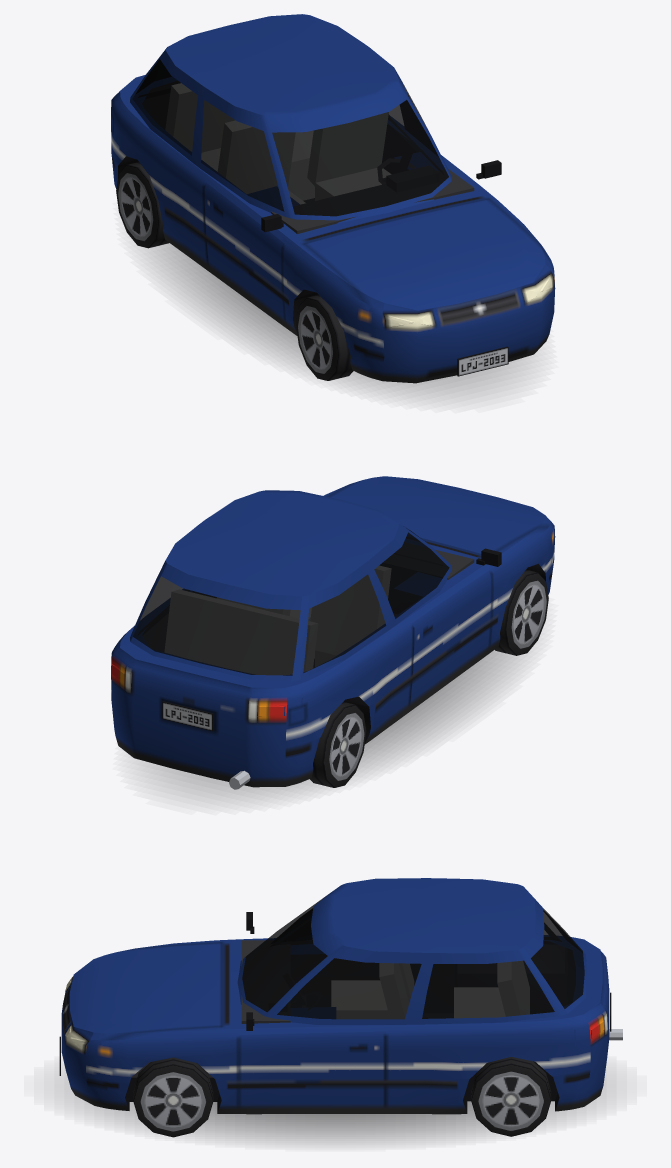
File: lampejo.glb
3 renders of one model, top to bottom at view 1: azimuth 30°, elevation 25°; view 2: azimuth 150°, elevation 25°; view 3: azimuth 270°, elevation 25°, orthographic. The views are drawn at different scales.
Visible parts, largest first — view 1: Carroceria, Interior, Capo_malha, Porta_D_malha, Sombra, Roda_DD, Roda_TD, Porta_E_malha; view 2: Carroceria, Tampa_malha, Interior, Porta_D_malha, Capo_malha, Sombra, Roda_TD, Roda_DD, Lanterna; view 3: Carroceria, Interior, Porta_E_malha, Capo_malha, Sombra, Roda_DE, Roda_TE, Tampa_malha, Porta_D_malha.
Boxes of the visible parts, x1,y1,x2,y2 form: Carroceria: (111, 14, 555, 383); Interior: (138, 81, 474, 233); Capo_malha: (304, 198, 550, 311); Porta_D_malha: (203, 102, 290, 319); Sombra: (148, 243, 528, 398); Roda_DD: (296, 295, 353, 380); Roda_TD: (116, 162, 168, 248); Porta_E_malha: (394, 68, 501, 179); Carroceria: (111, 479, 555, 789); Tampa_malha: (130, 563, 301, 765); Interior: (138, 542, 474, 674); Porta_D_malha: (389, 524, 501, 703); Capo_malha: (328, 476, 550, 554); Sombra: (142, 650, 522, 800); Roda_TD: (310, 702, 366, 787); Roda_DD: (495, 569, 548, 655); Lanterna: (112, 664, 302, 719); Carroceria: (59, 878, 622, 1114); Interior: (131, 917, 575, 1077); Porta_E_malha: (238, 946, 385, 1106); Capo_malha: (75, 942, 222, 1040); Sombra: (64, 1073, 606, 1143); Roda_DE: (133, 1057, 213, 1137); Roda_TE: (471, 1056, 551, 1136); Tampa_malha: (523, 899, 611, 1051); Porta_D_malha: (246, 909, 312, 943).
Bounding box in the file's own units: 2.36 × 1.44 × 4.72.
12 materials, 6 textured.
